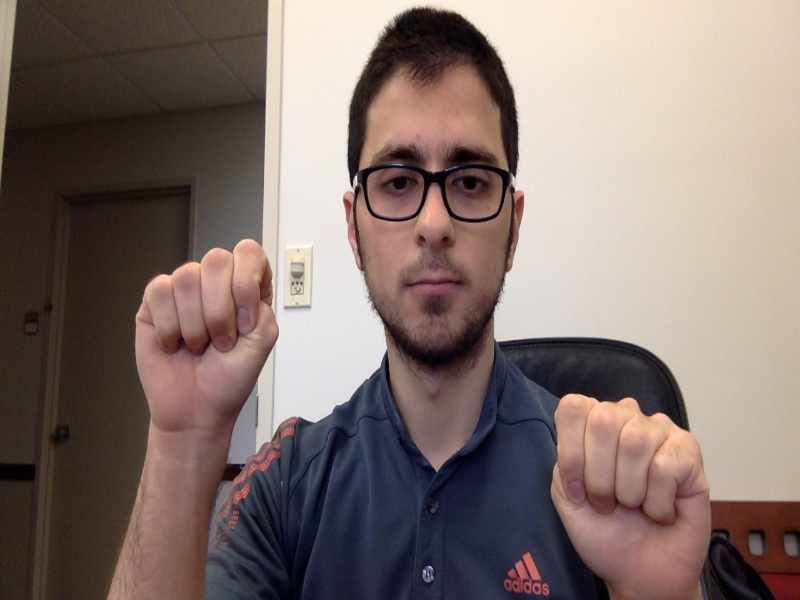0-hand: (551, 391, 712, 584), (132, 241, 279, 430)
